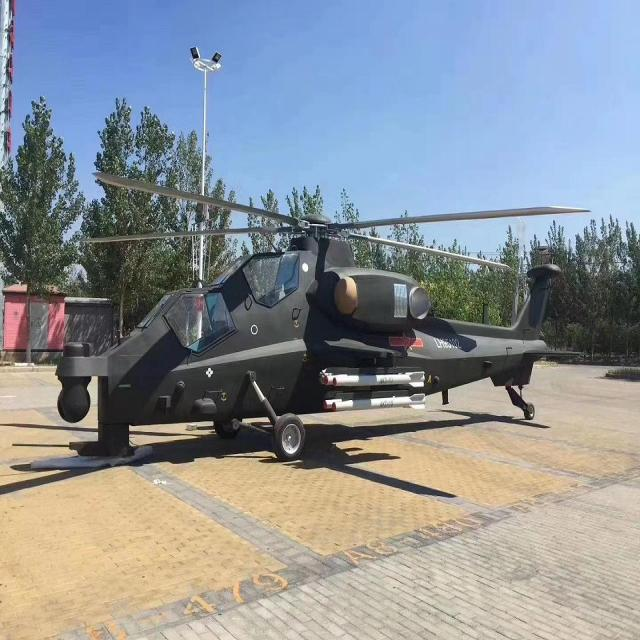MIL_HELO: (38, 174, 562, 467)
